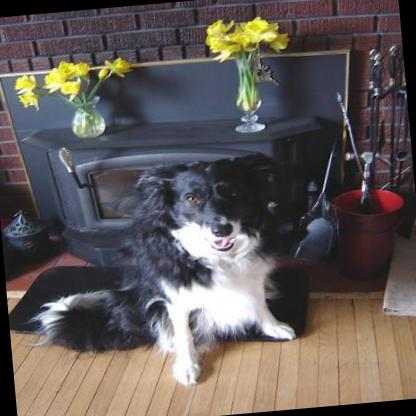Border_collie: (24, 149, 300, 397)
